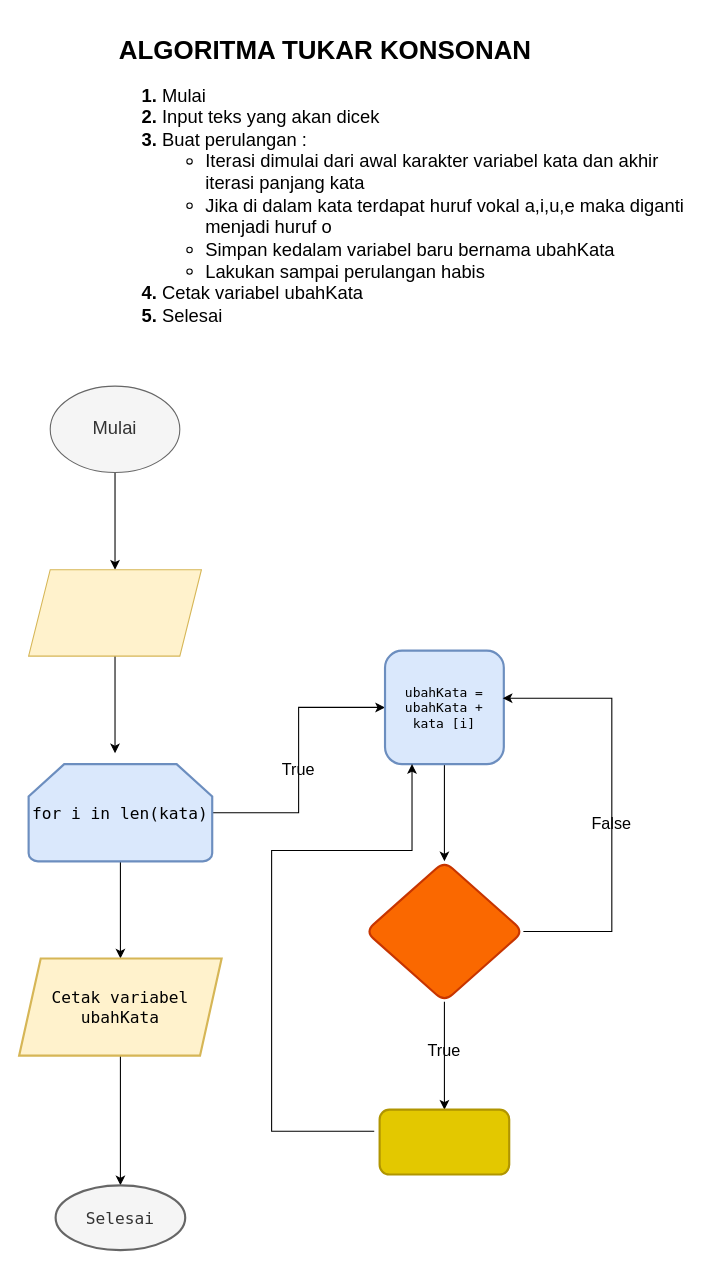
Some shapes in this 728 by 1269 pixel diagram are drawn without their labels. The shapes that lost their labels are listed below. From the top down, each one's box as (x1, y1, x2, y2) in pixels, then its label:
(28, 569, 201, 656): Input teks yang akan dicek
(364, 860, 524, 1002): kata [i] == 'a' or 'i' or 'e' or 'u'
(378, 1108, 510, 1175): kata [i] = 'o'
